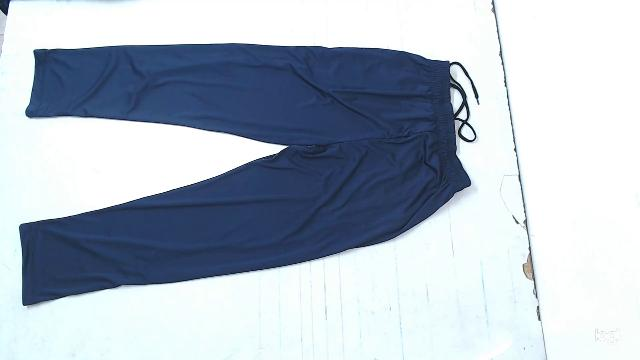new-garment: (20, 43, 470, 305)
